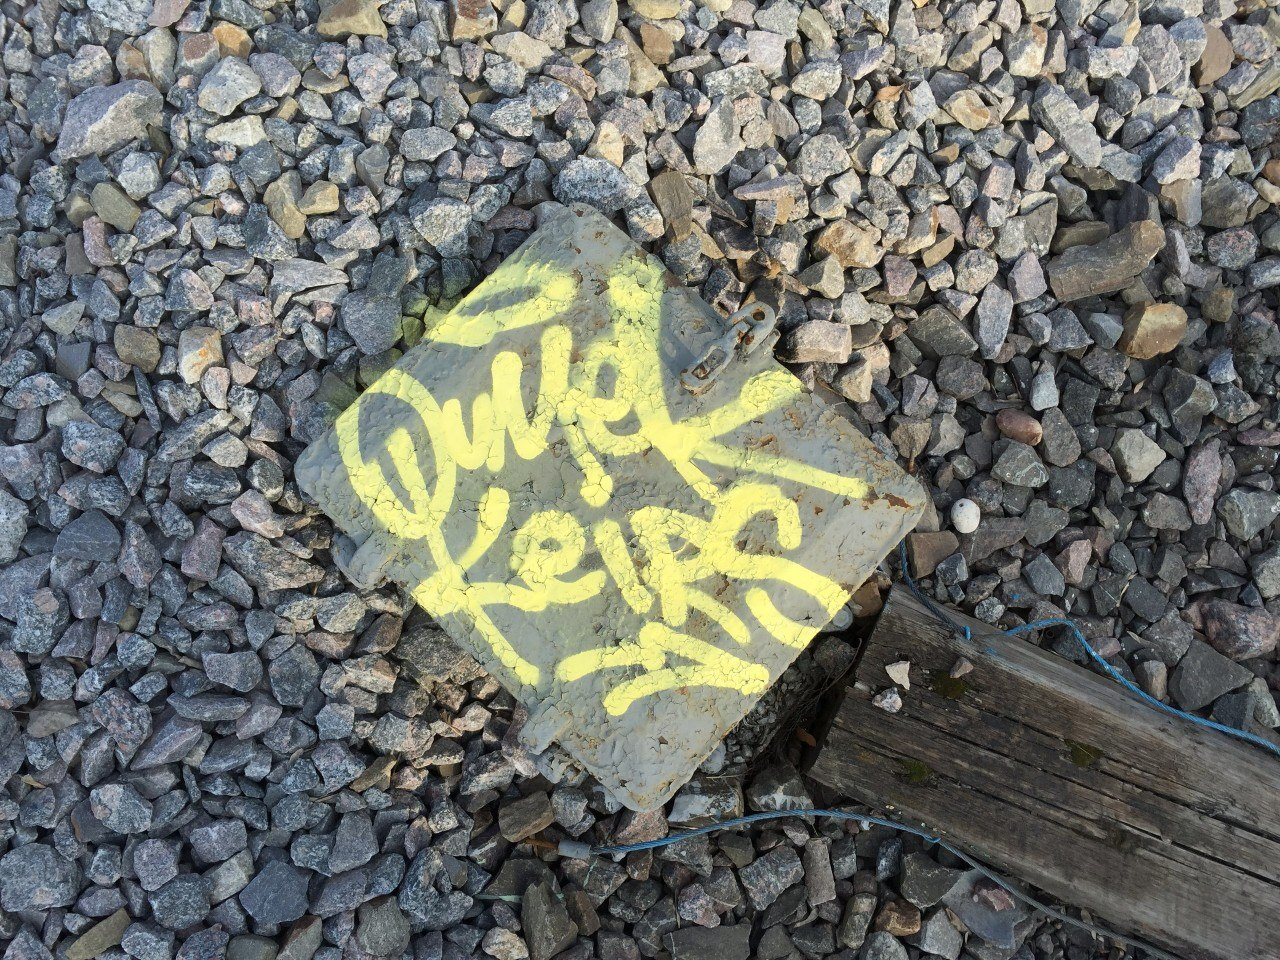graffity: (323, 199, 882, 754)
